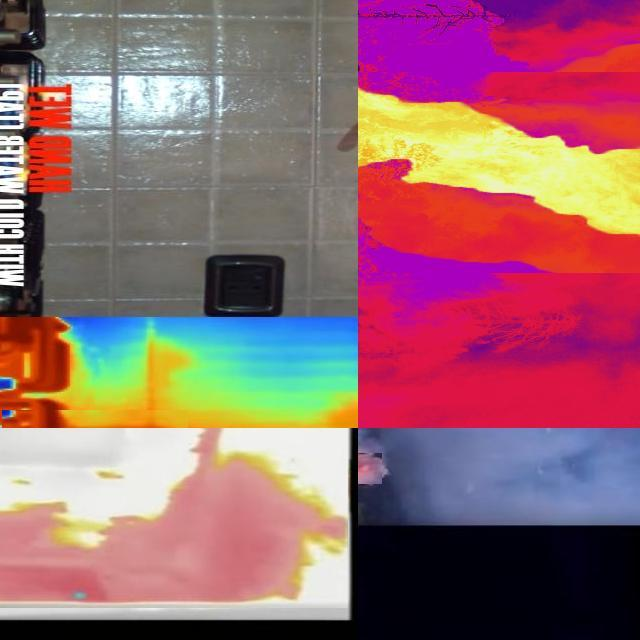fire: (2, 444, 345, 598), (364, 73, 637, 243), (3, 322, 65, 427)
